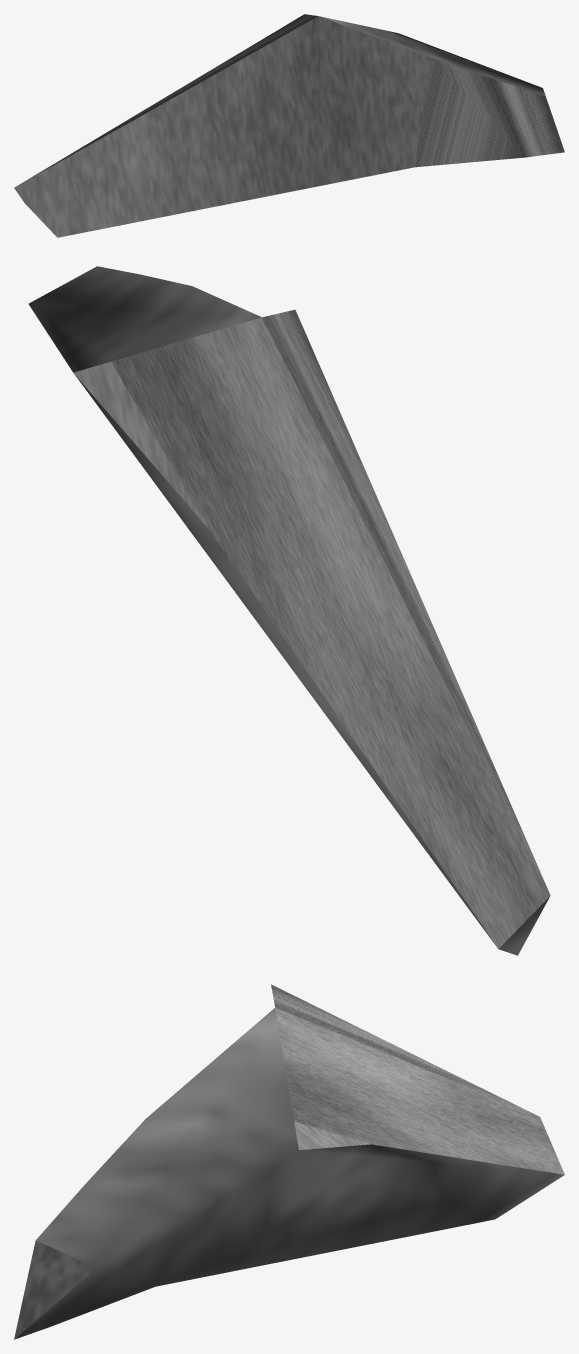
The model's file is body_cell_007.fbx.
3 renders of one model, top to bottom at view 1: azimuth 30°, elevation 25°; view 2: azimuth 150°, elevation 25°; view 3: azimuth 270°, elevation 25°, orthographic. The views are drawn at different scales.
Parts seen in each view (by area): view 1: body_cell.007; view 2: body_cell.007; view 3: body_cell.007.
Part boxes in pixels (left/top/right/bottom): body_cell.007: left=14, top=14, right=564, bottom=237; body_cell.007: left=28, top=266, right=550, bottom=955; body_cell.007: left=14, top=984, right=564, bottom=1339.
Size of the model in its own units: 12.62 by 7.01 by 9.22.
